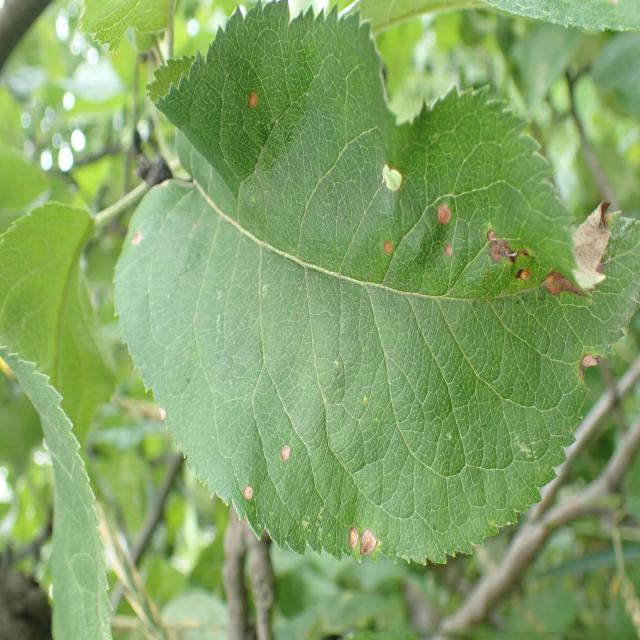frog-eye-leaf-spot: (113, 0, 640, 565)
